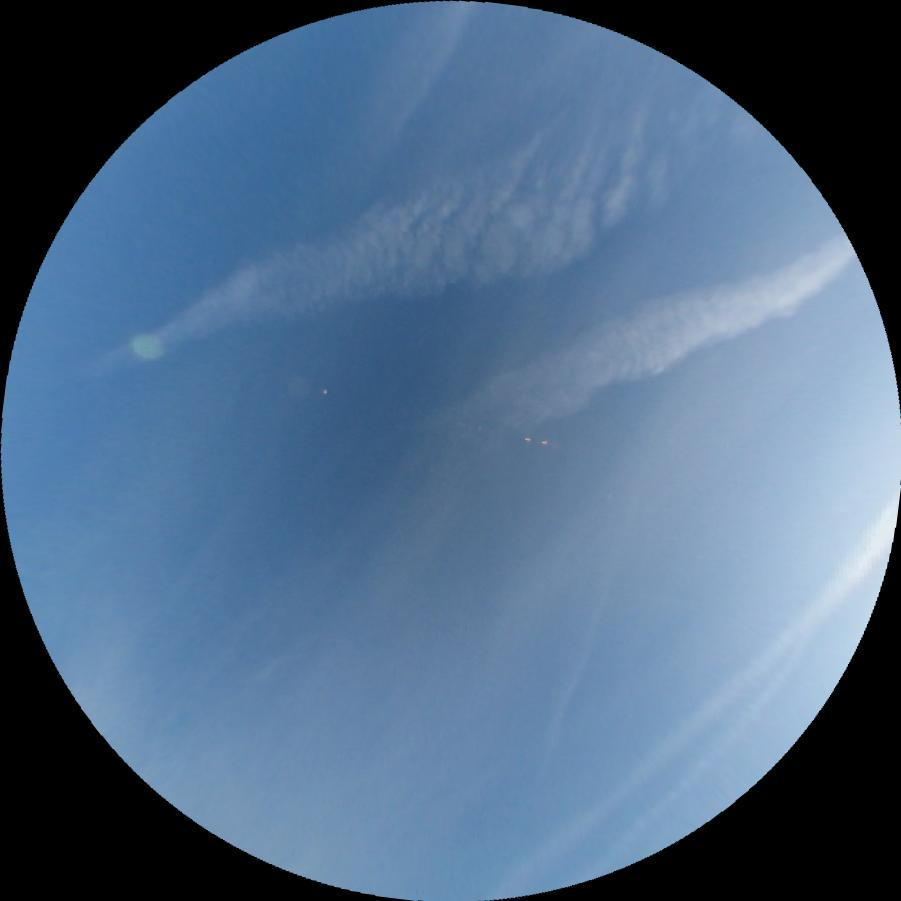contrail veryold: (71, 54, 751, 469), (410, 211, 865, 475)
